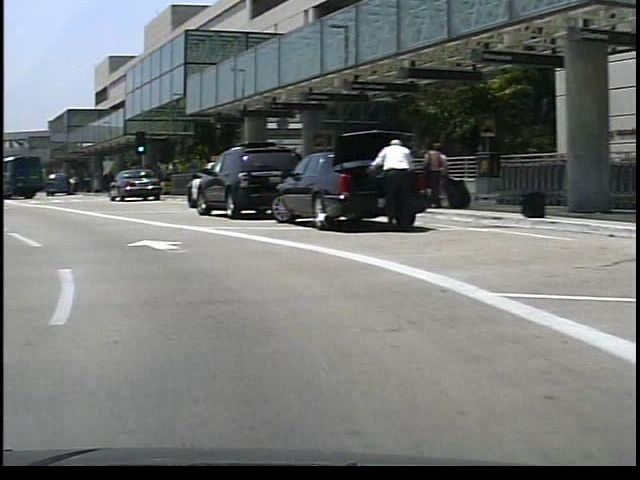person: (359, 134, 411, 235), (415, 141, 438, 214), (420, 139, 442, 215)
